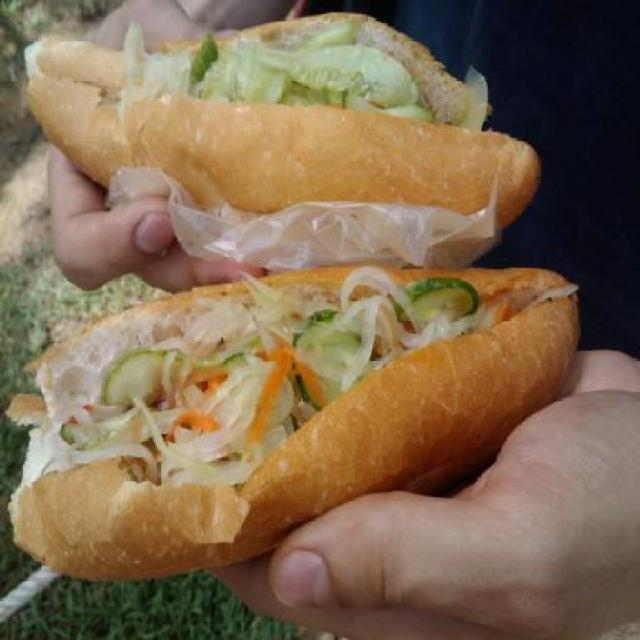Hot dog: (23, 226, 620, 600)
